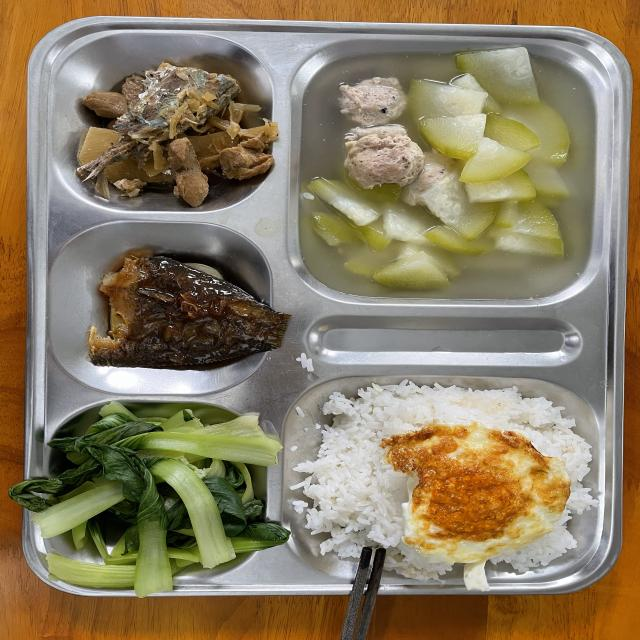canh_cai: (61, 413, 248, 570)
thit_kho: (150, 141, 267, 197)
trung_chien: (386, 434, 560, 559)
